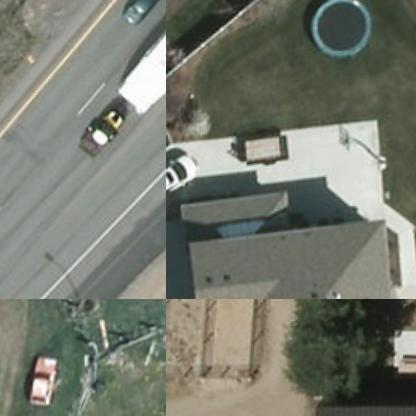car: (166, 143, 213, 209), (22, 349, 66, 405), (117, 0, 165, 30)
